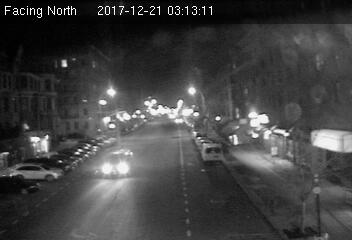car: (101, 150, 136, 177)
truck: (202, 144, 223, 165)
